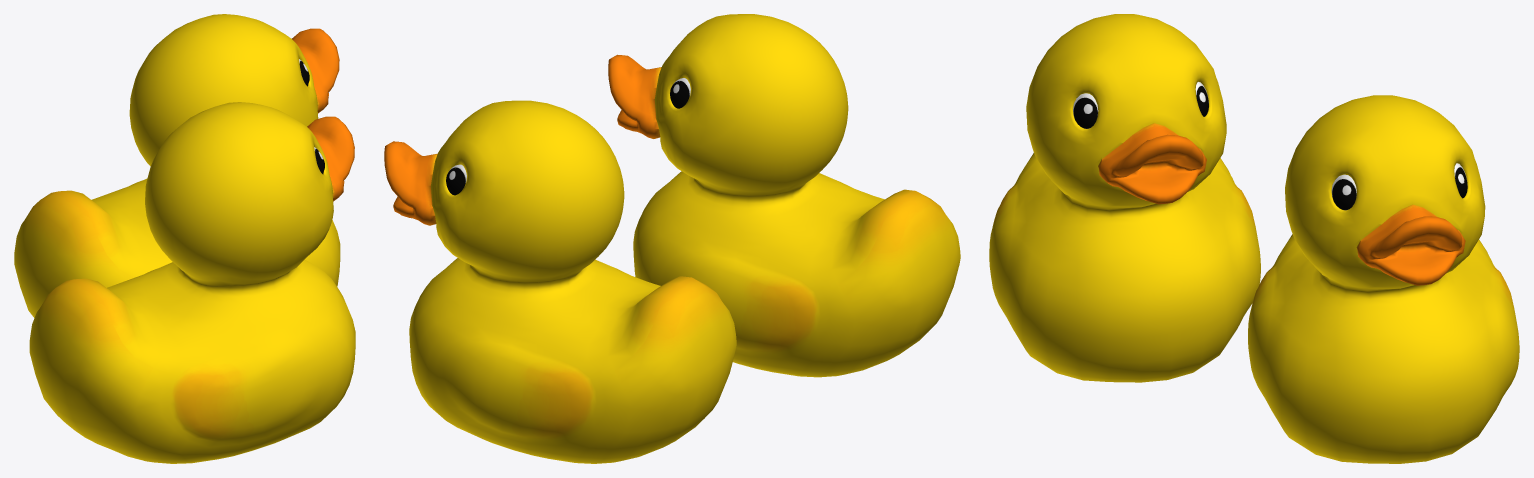
Rendered from two-ducks.glb.
3 views of the same model, side by side, from view 1: azimuth 30°, elevation 25°; view 2: azimuth 150°, elevation 25°; view 3: azimuth 270°, elevation 25° (orthographic). The views are drawn at different scales.
Visible parts, largest first — view 1: LOD3spShape, LOD3spShape.001; view 2: LOD3spShape.001, LOD3spShape; view 3: LOD3spShape.001, LOD3spShape.
Part boxes in pixels (box(x1,y1,x2,y2)): LOD3spShape: box(29, 102, 355, 463); LOD3spShape.001: box(14, 14, 340, 317); LOD3spShape.001: box(384, 100, 736, 463); LOD3spShape: box(608, 14, 960, 377); LOD3spShape.001: box(1248, 95, 1519, 463); LOD3spShape: box(989, 14, 1260, 382).
Size of the model in its own units: 8.58 by 6.47 by 8.75.
1 material, 1 textured.
